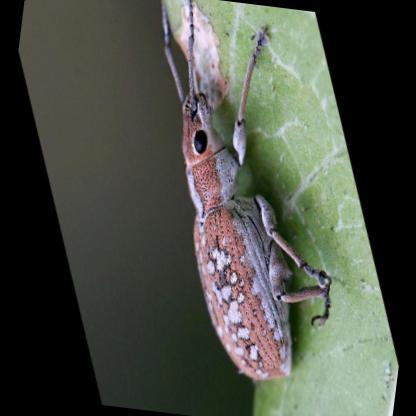ash weevil: (158, 1, 325, 384)
